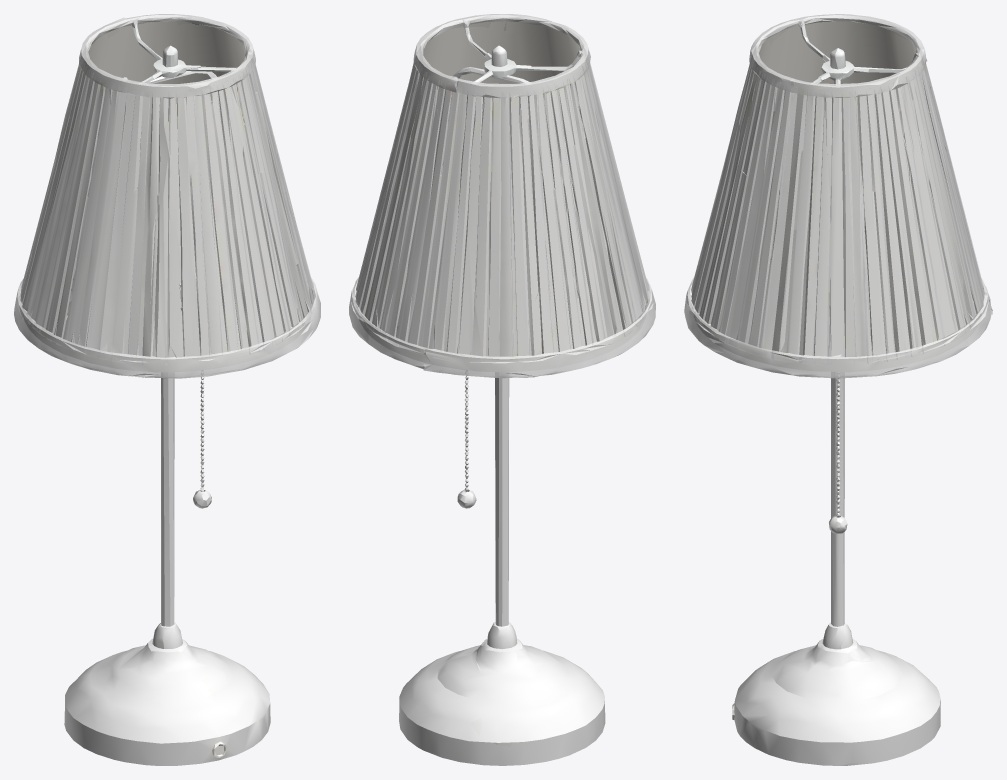
File: arstid_table_lamp_nickel_plated_white.glb
The picture shows the model from 3 angles, left to right: view 1: azimuth 30°, elevation 25°; view 2: azimuth 150°, elevation 25°; view 3: azimuth 270°, elevation 25°; orthographic projection.
Visible parts, largest first — view 1: ProcessedMeshNode; view 2: ProcessedMeshNode; view 3: ProcessedMeshNode.
Part boxes in pixels (left/top/right/bottom): ProcessedMeshNode: left=14, top=14, right=320, bottom=765; ProcessedMeshNode: left=349, top=14, right=655, bottom=765; ProcessedMeshNode: left=684, top=14, right=992, bottom=765.
Size of the model in its own units: 0.2217 by 0.5403 by 0.2234.
Materials: 2 (2 with a texture image).
